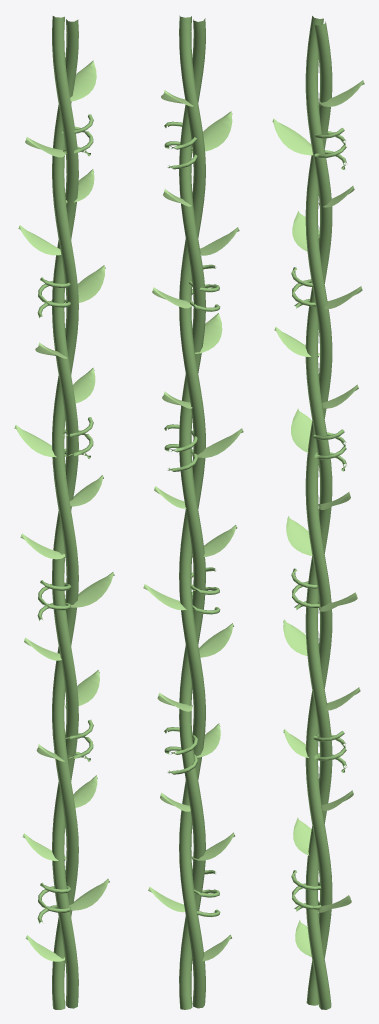
The model's file is HoneyVine.glb.
3 views of the same model, side by side, from view 1: azimuth 30°, elevation 25°; view 2: azimuth 210°, elevation 25°; view 3: azimuth 330°, elevation 25° (orthographic).
Parts seen in each view (by area): view 1: Vine, VineLeaves; view 2: Vine, VineLeaves; view 3: Vine, VineLeaves.
Part boxes in pixels (x1=…): Vine: x1=37, y1=16, x2=93, y2=1009; VineLeaves: x1=14, y1=60, x2=114, y2=961; Vine: x1=164, y1=15, x2=220, y2=1009; VineLeaves: x1=143, y1=90, x2=243, y2=961; Vine: x1=291, y1=16, x2=346, y2=1009; VineLeaves: x1=272, y1=80, x2=364, y2=956.
Bounding box in the file's own units: 2.35 × 25.54 × 1.36.
